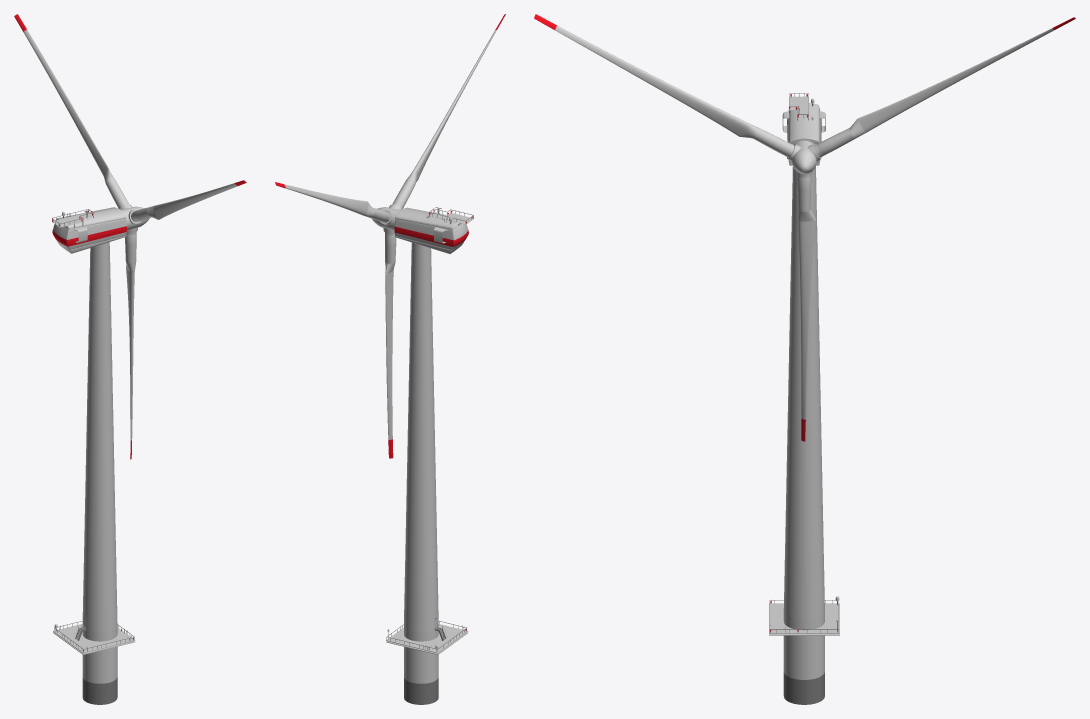
File: Wind Turbines.FBX
3 views of the same model, side by side, from view 1: azimuth 30°, elevation 25°; view 2: azimuth 150°, elevation 25°; view 3: azimuth 270°, elevation 25° (orthographic). The views are drawn at different scales.
Visible parts, largest first — view 1: Wind Turbines; view 2: Wind Turbines; view 3: Wind Turbines.
Boxes of the visible parts, x1,y1,x2,y2 form: Wind Turbines: [14, 14, 246, 704]; Wind Turbines: [275, 14, 505, 704]; Wind Turbines: [534, 14, 1075, 704].
Bounding box in the file's own units: 18.59 × 109 × 76.38.
